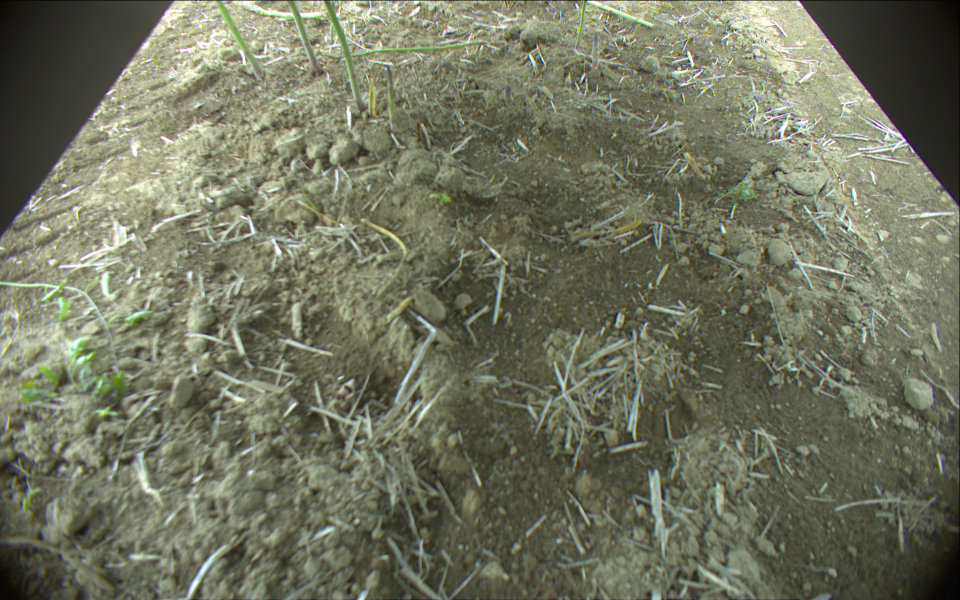aspa: (1, 278, 123, 369), (323, 1, 367, 109), (357, 215, 410, 298), (213, 1, 268, 77), (339, 39, 488, 62), (280, 1, 325, 74), (235, 1, 328, 22), (586, 1, 654, 29), (383, 64, 397, 124), (573, 1, 587, 50), (367, 80, 378, 117), (591, 34, 601, 69)
